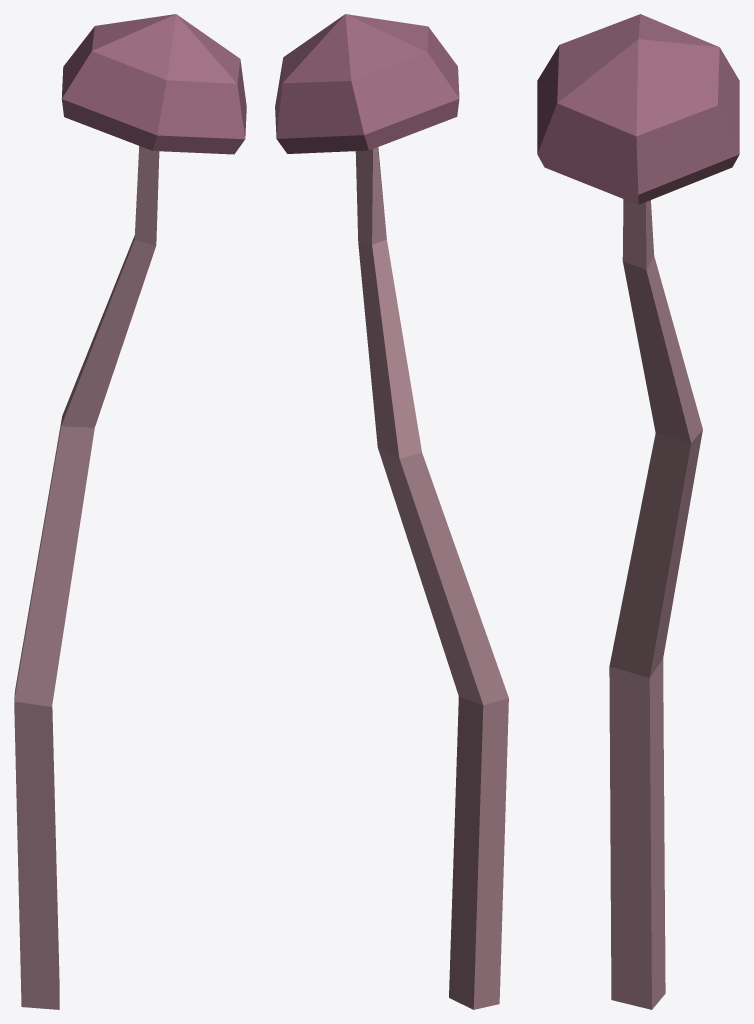
Rendered from Mushroom-D04.fbx.
3 views of the same model, side by side, from view 1: azimuth 30°, elevation 25°; view 2: azimuth 150°, elevation 25°; view 3: azimuth 270°, elevation 25° (orthographic). The views are drawn at different scales.
Parts seen in each view (by area): view 1: Mushroom-D04; view 2: Mushroom-D04; view 3: Mushroom-D04.
Boxes of the visible parts, bbox=[...] form: Mushroom-D04: bbox=[14, 14, 246, 1009]; Mushroom-D04: bbox=[275, 14, 508, 1009]; Mushroom-D04: bbox=[537, 14, 739, 1009].
Size of the model in its own units: 21.06 by 82.31 by 14.68.
